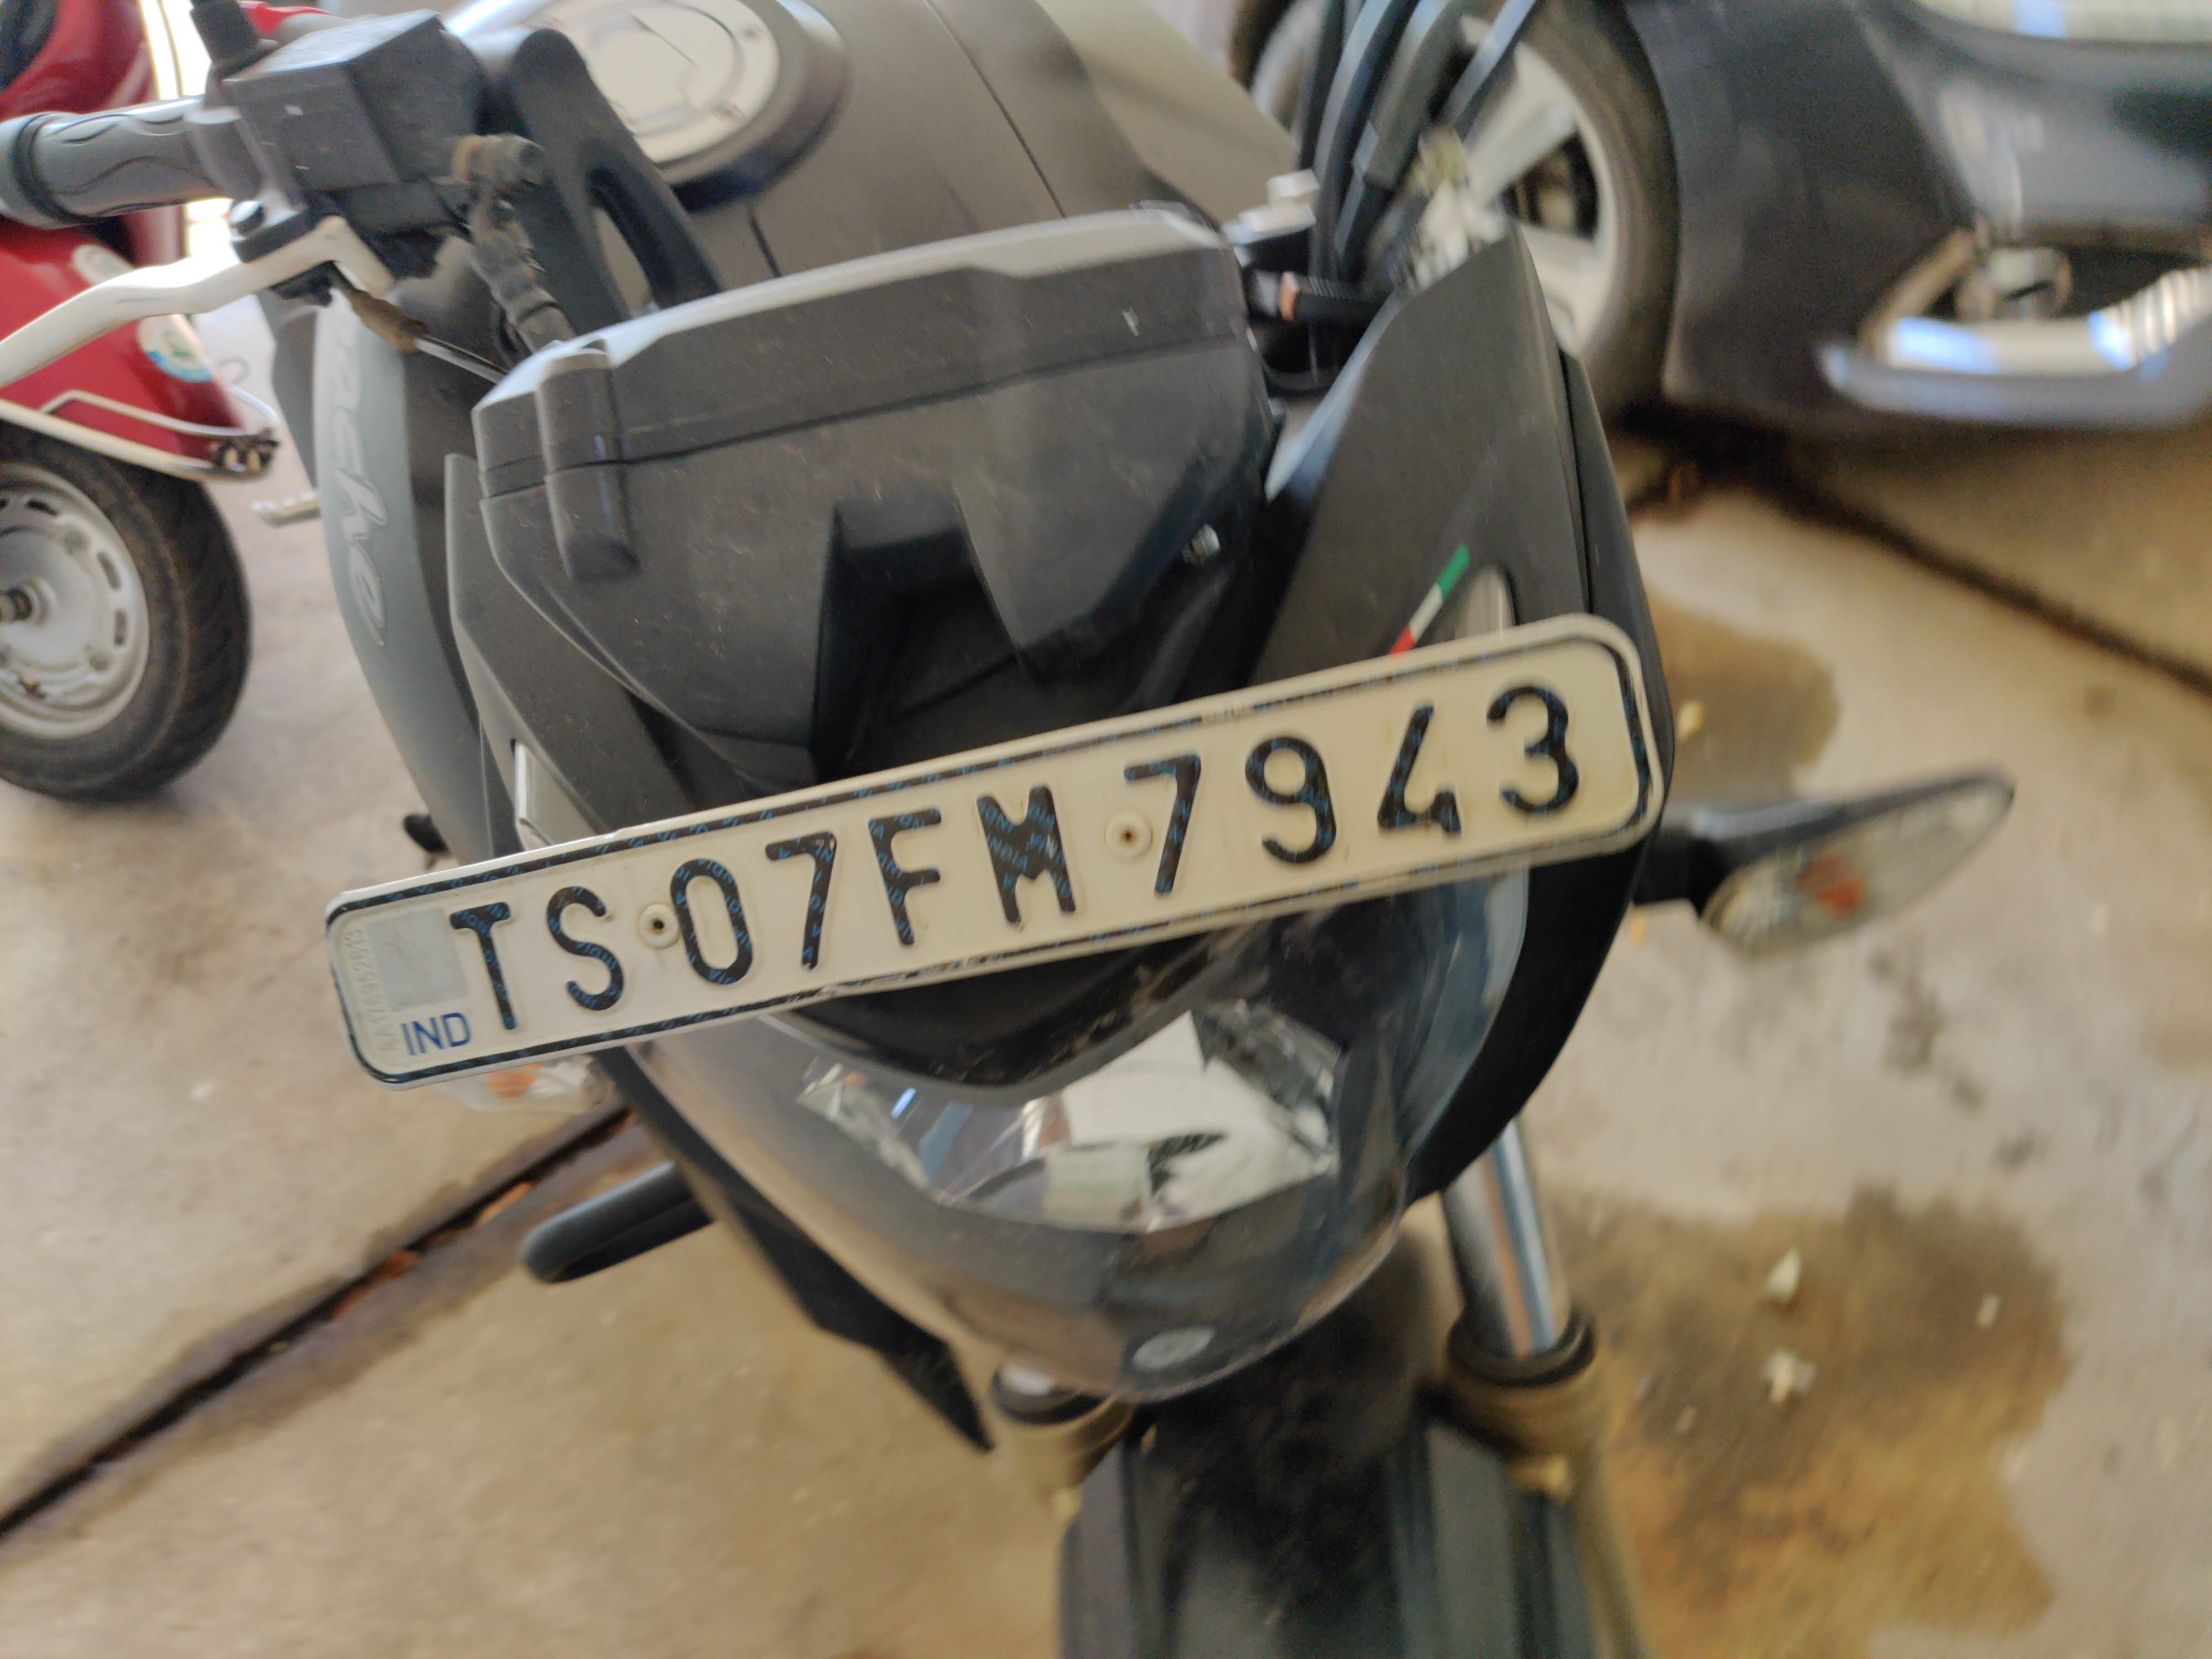plate: (304, 601, 1710, 1117)
